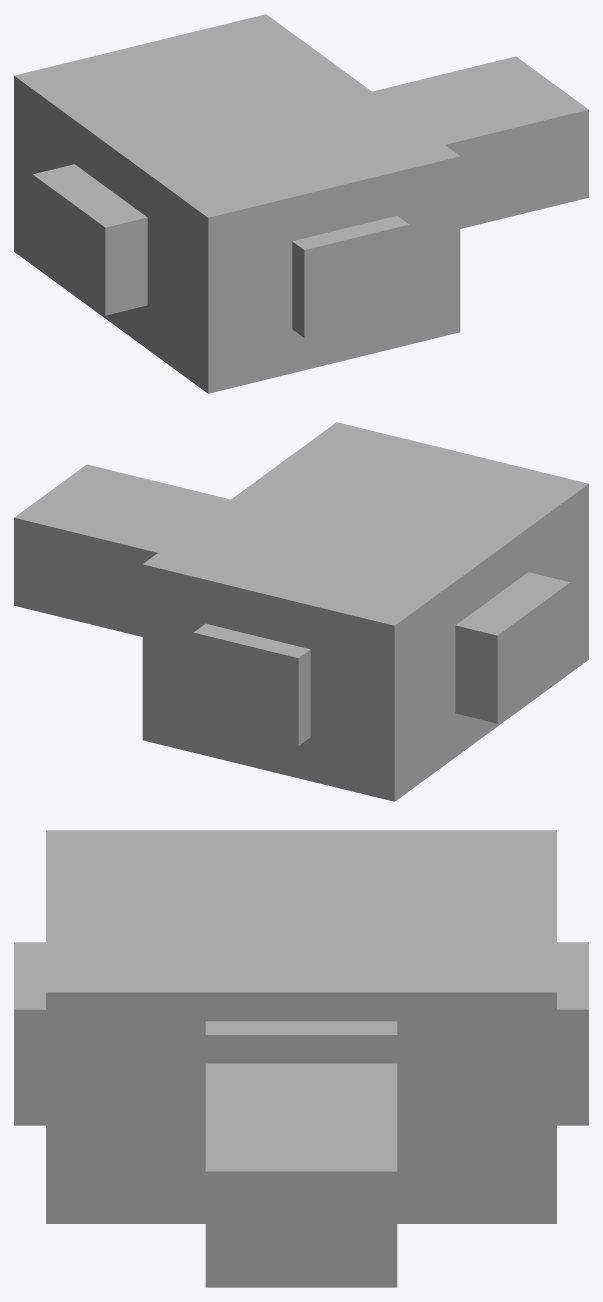
Rendered from apprentice_badge_scene.glb.
3 renders of one model, top to bottom at view 1: azimuth 30°, elevation 25°; view 2: azimuth 150°, elevation 25°; view 3: azimuth 270°, elevation 25°, orthographic. The views are drawn at different scales.
Parts seen in each view (by area): view 1: Untitled; view 2: Untitled; view 3: Untitled.
Part boxes in pixels (<box>): Untitled: <box>14,14,588,393</box>; Untitled: <box>14,422,588,801</box>; Untitled: <box>14,830,588,1287</box>.
Size of the model in its own units: 2.3 by 0.8 by 1.8.
1 material, 1 textured.
